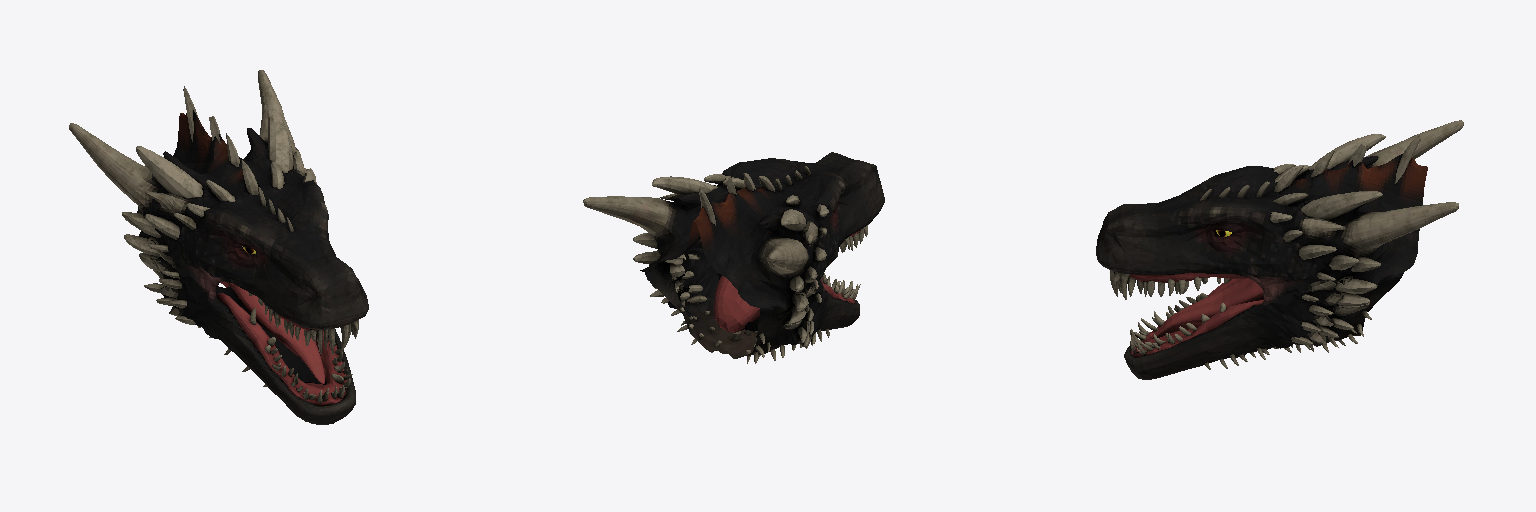
The picture shows the model from 3 angles: view 1: azimuth 30°, elevation 25°; view 2: azimuth 150°, elevation 25°; view 3: azimuth 270°, elevation 25°; orthographic projection.
Visible parts, largest first — view 1: Dragon_Untitled; view 2: Dragon_Untitled; view 3: Dragon_Untitled.
Boxes of the visible parts, box(x1,y1,x2,y2) form: Dragon_Untitled: box(69, 70, 368, 424); Dragon_Untitled: box(583, 152, 884, 363); Dragon_Untitled: box(1096, 120, 1463, 379).
Size of the model in its own units: 2.72 by 3.2 by 4.45.
Materials: 1 (1 with a texture image).